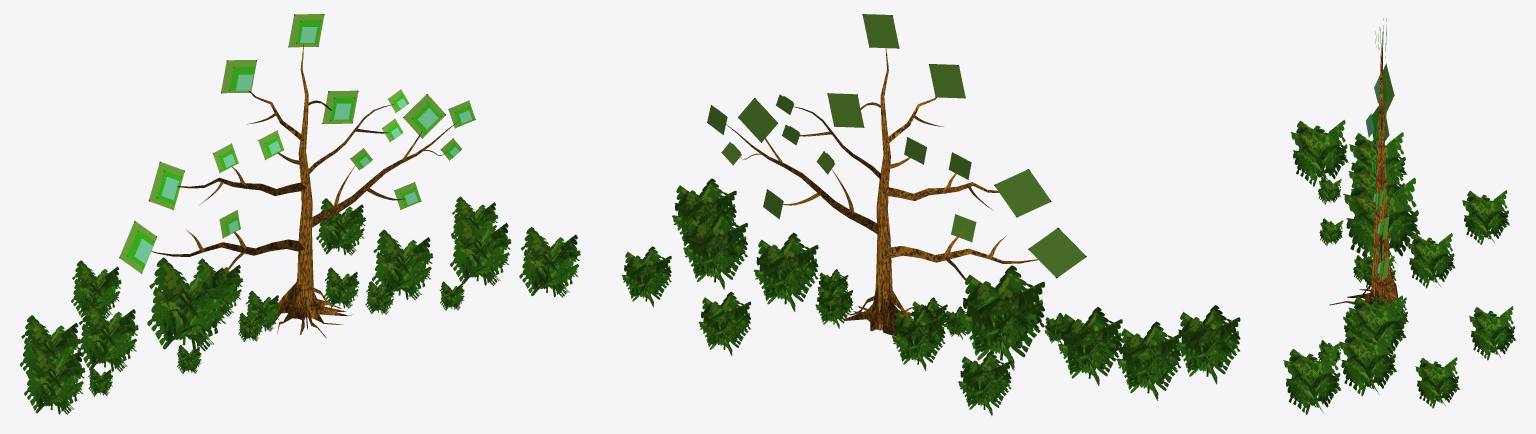
File: TREE_LEAVES_BUSH_2.obj
3 views of the same model, side by side, from view 1: azimuth 30°, elevation 25°; view 2: azimuth 150°, elevation 25°; view 3: azimuth 270°, elevation 25° (orthographic). The views are drawn at different scales.
Visible parts, largest first — view 1: Bush05, Bush015, Bush08, Bush013, Bush07, Bush06, pPyramid1, Bush010, Bush011, Bush014, pCylinder2, Bush01 (+13 smaller); view 2: Bush05, Bush08, Bush06, Bush014, Bush013, Bush07, pPyramid1, Bush09, Bush010, Bush015, Bush011, Bush012 (+11 smaller); view 3: Bush05, Bush015, Bush08, Bush013, pPyramid1, Bush06, Bush09, Bush010, Bush011, Bush012, Bush014, Bush07 (+8 smaller).
Boxes of the visible parts, x1=… form: Bush05: x1=147, y1=257, x2=228, y2=351; Bush015: x1=519, y1=227, x2=580, y2=297; Bush08: x1=450, y1=215, x2=511, y2=285; Bush013: x1=24, y1=344, x2=85, y2=414; Bush07: x1=77, y1=301, x2=138, y2=371; Bush06: x1=372, y1=229, x2=433, y2=300; pPyramid1: x1=296, y1=44, x2=313, y2=313; Bush010: x1=71, y1=260, x2=121, y2=318; Bush011: x1=316, y1=198, x2=365, y2=255; Bush014: x1=20, y1=315, x2=81, y2=379; pCylinder2: x1=270, y1=278, x2=352, y2=338; Bush01: x1=324, y1=267, x2=359, y2=308; Bush05: x1=959, y1=265, x2=1044, y2=370; Bush08: x1=683, y1=210, x2=747, y2=289; Bush06: x1=753, y1=232, x2=818, y2=311; Bush014: x1=1116, y1=321, x2=1181, y2=400; Bush013: x1=1176, y1=305, x2=1240, y2=384; Bush07: x1=1058, y1=307, x2=1122, y2=385; pPyramid1: x1=875, y1=48, x2=892, y2=312; Bush09: x1=892, y1=305, x2=945, y2=370; Bush010: x1=958, y1=350, x2=1011, y2=415; Bush015: x1=672, y1=178, x2=736, y2=247; Bush011: x1=698, y1=292, x2=750, y2=355; Bush012: x1=622, y1=246, x2=671, y2=307; Bush05: x1=1343, y1=177, x2=1420, y2=263; Bush015: x1=1283, y1=348, x2=1341, y2=414; Bush08: x1=1339, y1=329, x2=1396, y2=395; Bush013: x1=1290, y1=120, x2=1348, y2=186; pPyramid1: x1=1371, y1=43, x2=1390, y2=298; Bush06: x1=1348, y1=295, x2=1406, y2=354; Bush09: x1=1407, y1=233, x2=1455, y2=288; Bush010: x1=1462, y1=190, x2=1509, y2=244; Bush011: x1=1469, y1=306, x2=1515, y2=360; Bush012: x1=1415, y1=357, x2=1459, y2=408; Bush014: x1=1349, y1=132, x2=1407, y2=180; Bush07: x1=1348, y1=159, x2=1404, y2=195.
Bounding box in the file's own units: 295 × 162 × 119.
Materials: 5 (5 with a texture image).
